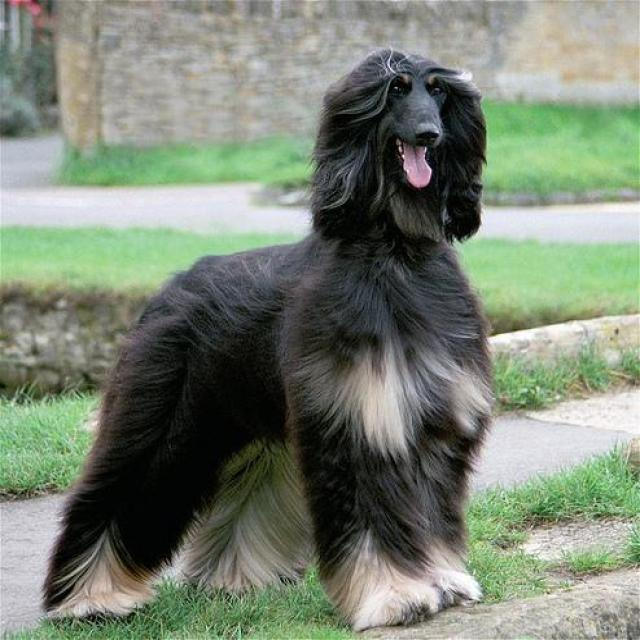afghan_hound: (32, 44, 496, 634)
